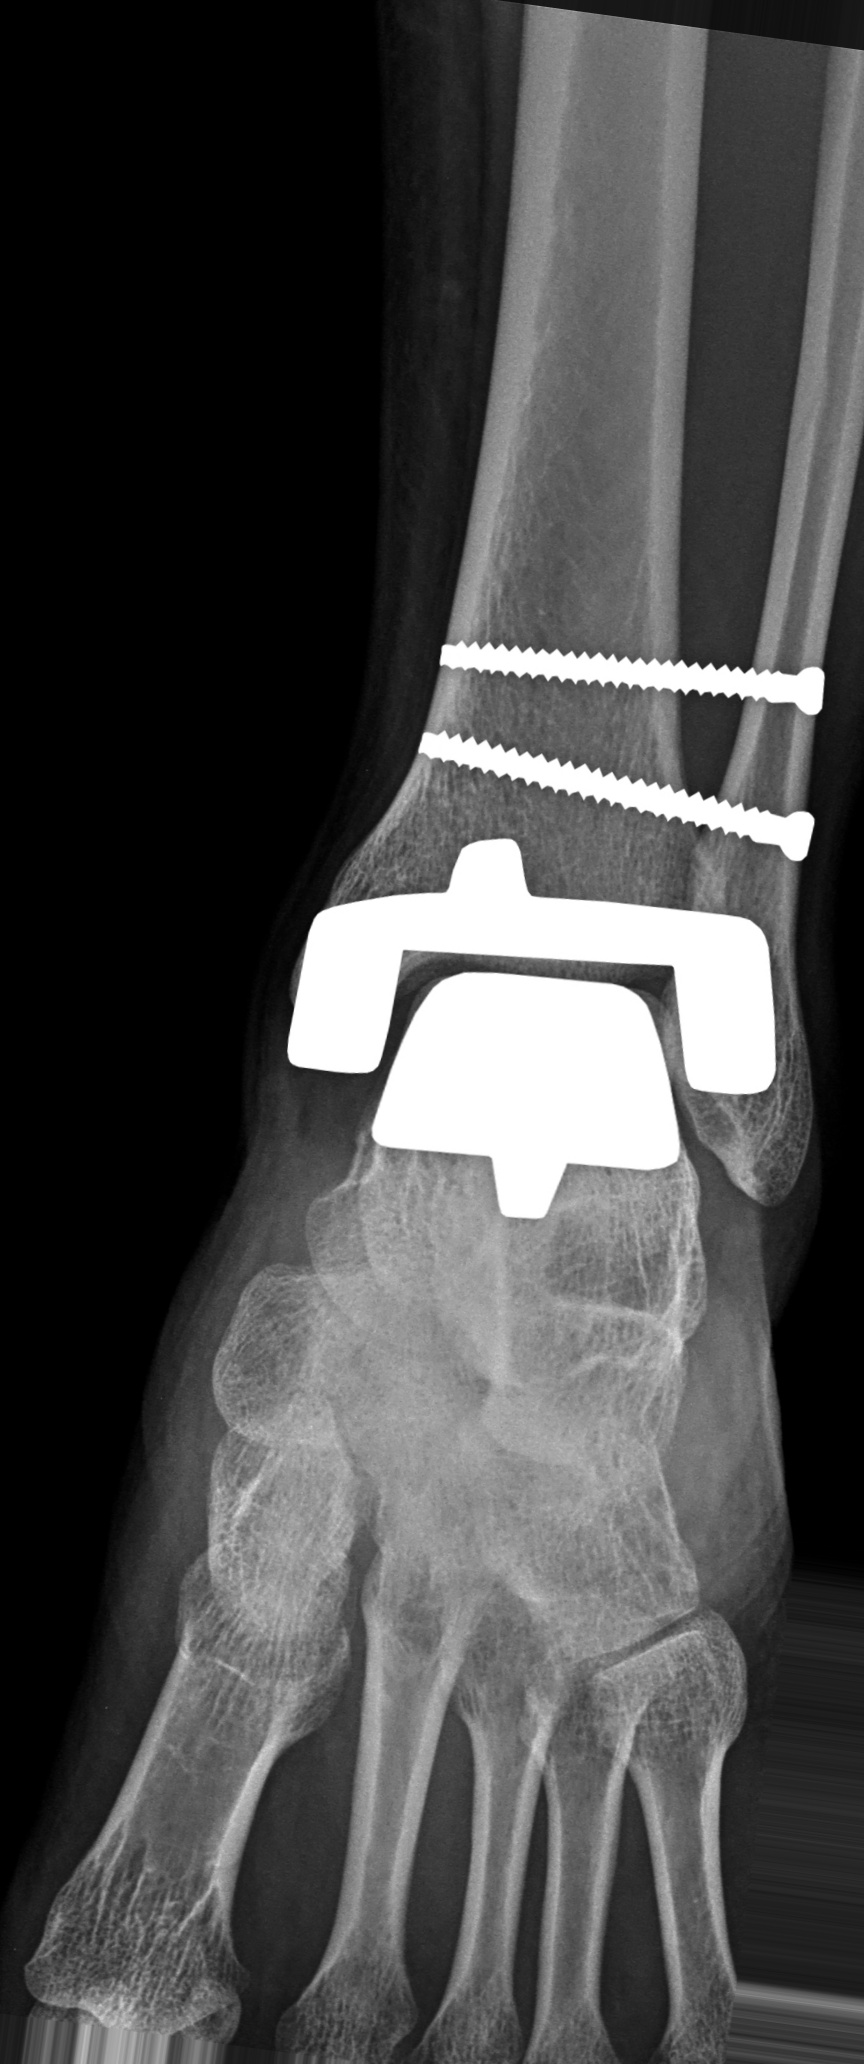Agility-Depuy: (283, 616, 832, 1227)
